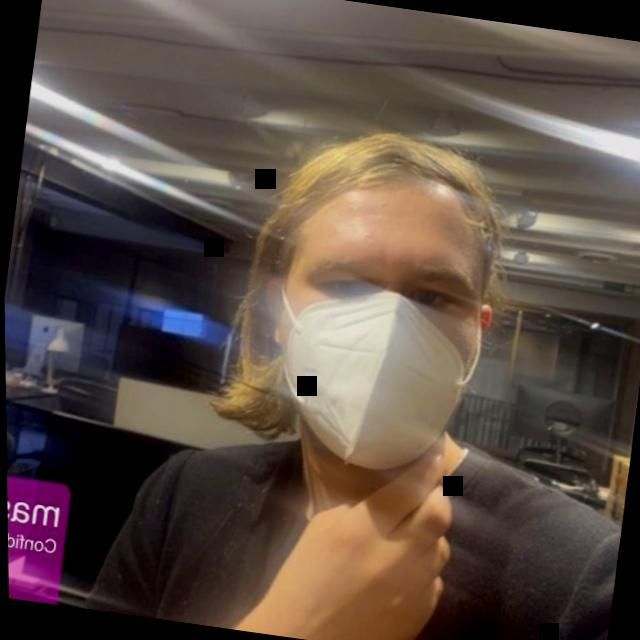Mask: (210, 86, 548, 488)
